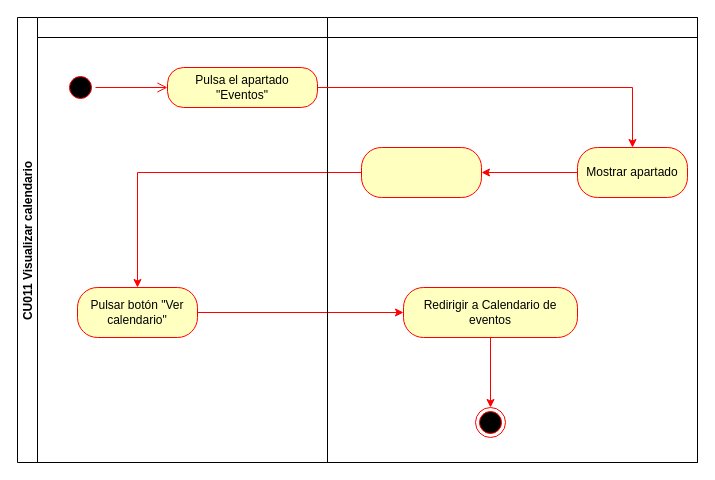
Some shapes in this 715 by 480 pixel diagram are drawn without their labels. The shapes that lost their labels are listed below. From the top down, each one's box as (x1, y1, x2, y2) in pixels, then its label:
(360, 146, 482, 198): Mostrar listado eventos
(36, 16, 328, 462): Usuario
(326, 16, 698, 462): Sistema
